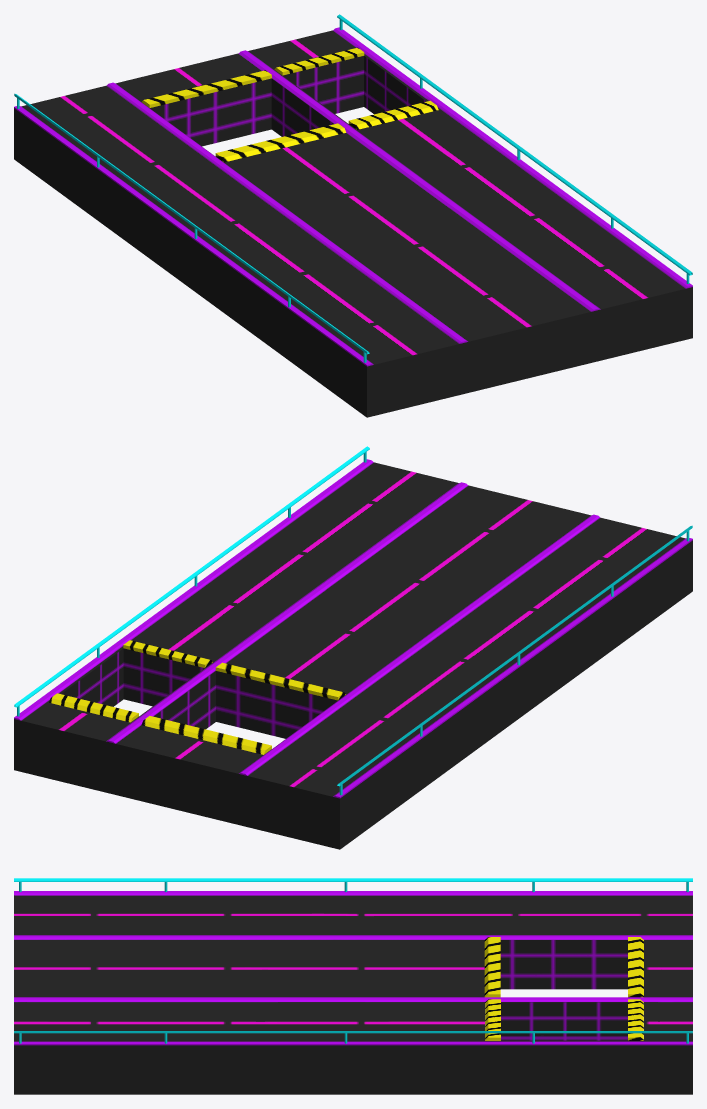
Rendered from RoadHole_003.fbx.
3 renders of one model, top to bottom at view 1: azimuth 30°, elevation 25°; view 2: azimuth 150°, elevation 25°; view 3: azimuth 270°, elevation 25°, orthographic. The views are drawn at different scales.
Parts seen in each view (by area): view 1: RoadHole_003; view 2: RoadHole_003; view 3: RoadHole_003.
Boxes of the visible parts, x1,y1,x2,y2 form: RoadHole_003: (14,14,692,417); RoadHole_003: (14,446,692,849); RoadHole_003: (14,878,692,1094).
Size of the model in its own units: 4 by 0.7696 by 7.5.
